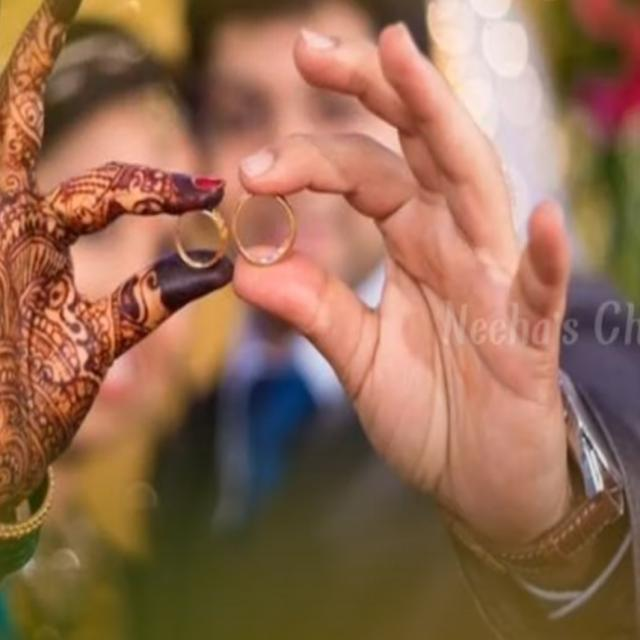Watch: (553, 372, 624, 572)
